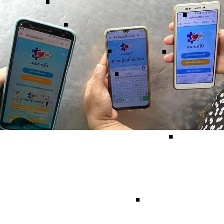phone: (0, 12, 80, 137), (100, 22, 154, 114), (171, 0, 221, 91)
